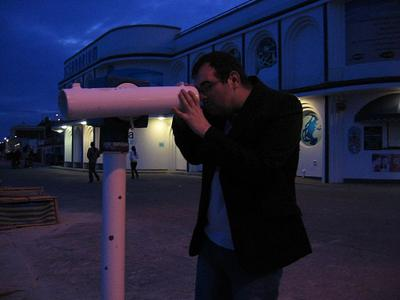person: (172, 52, 312, 300)
